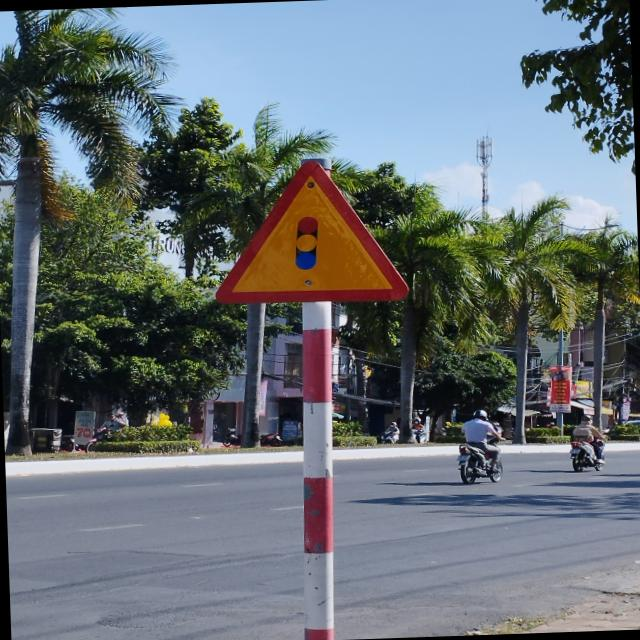Duong_Co_Go_Giam_Toc: (210, 155, 409, 306)
